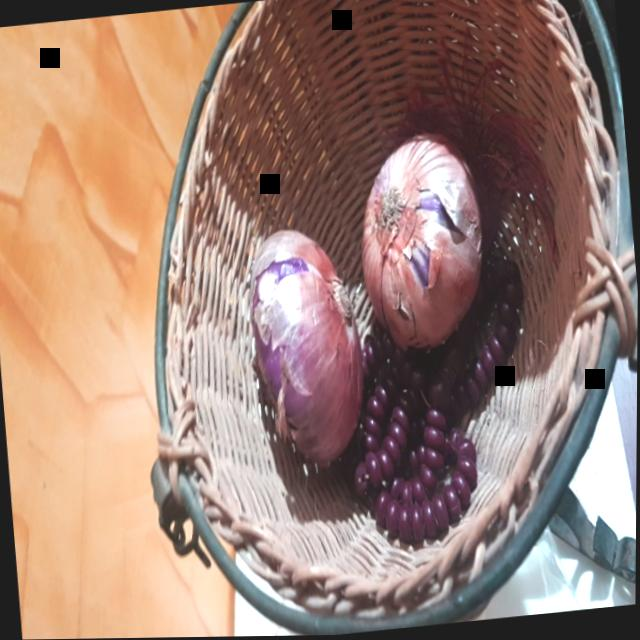onion: (229, 212, 386, 476), (342, 120, 496, 364)
